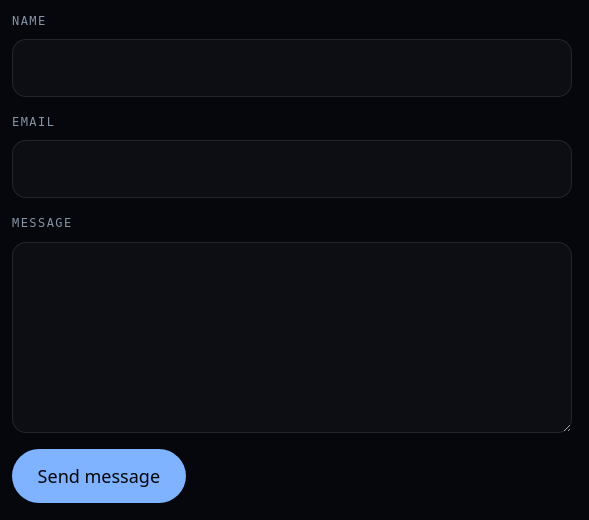
Test case: ContactForm › submits valid data and shows a success state
The image size is (589, 520).
Type "Ada Lovelace" into the field labelled "Name" at (292, 68), box [12,39,572,97]
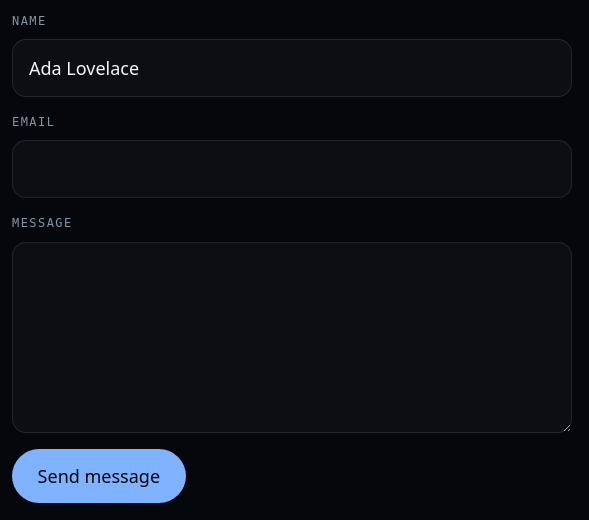
Type "ada@example.com" into the field labelled "Email" at (292, 169), box [12,140,572,198]
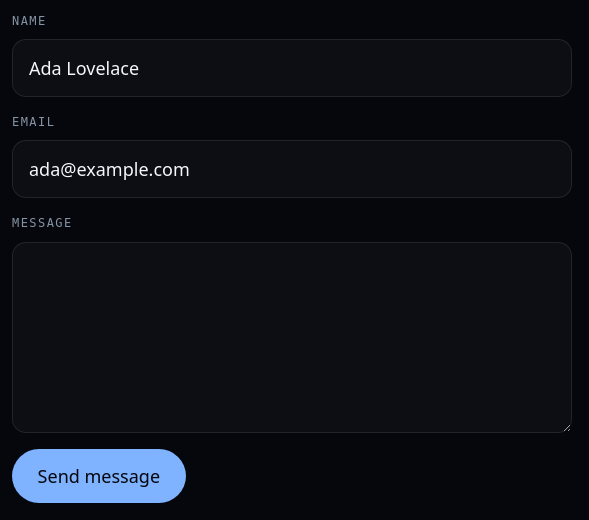
Type "Hello, I enjoyed exploring the atlas!" into the text box labelled "Message" at (292, 337), box [12,242,572,433]
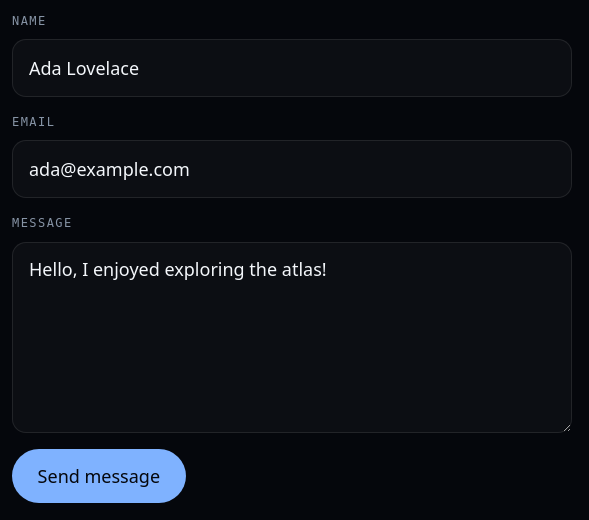
Click the button "Send message" at (99, 476), box [12,449,186,503]
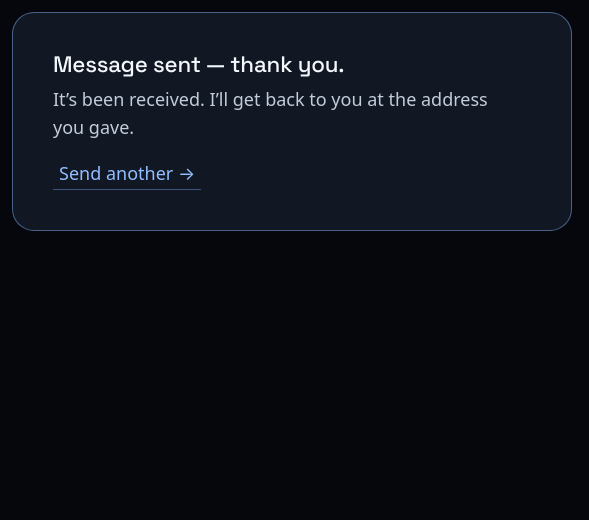
Expected: the heading "Message sent — thank you." is shown, [53,50,344,79]
